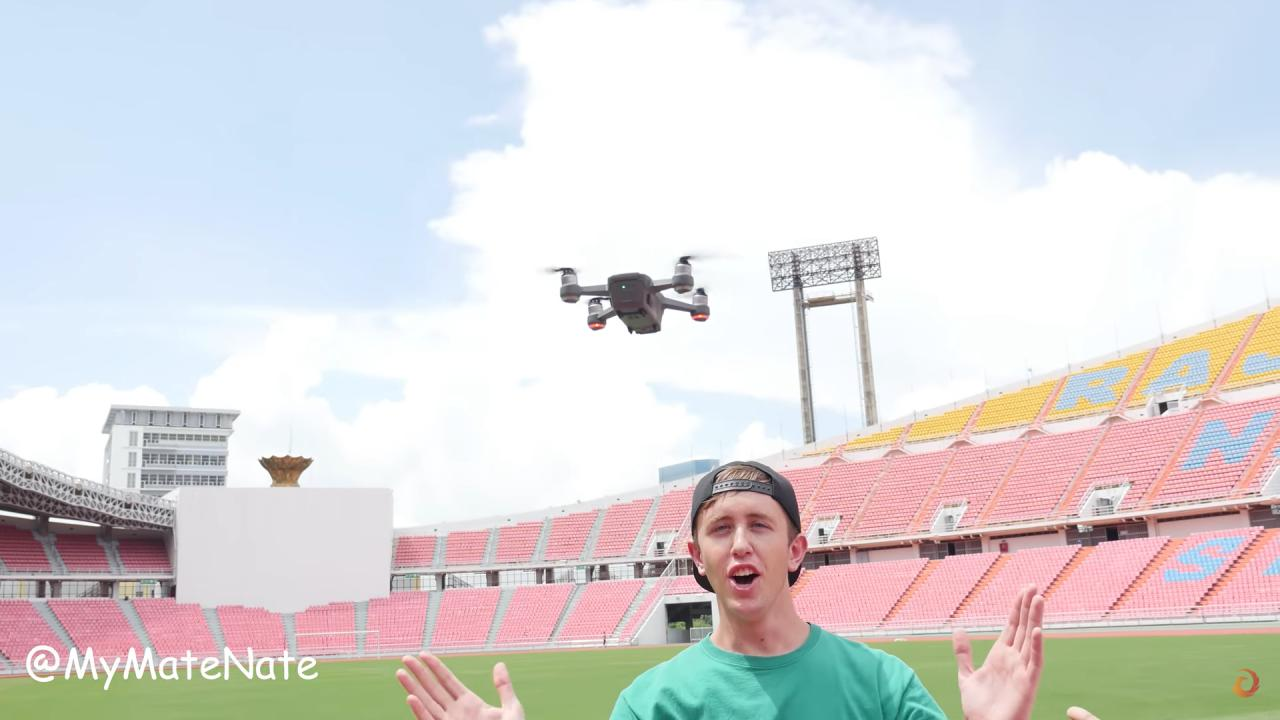Drone: (528, 235, 752, 357)
